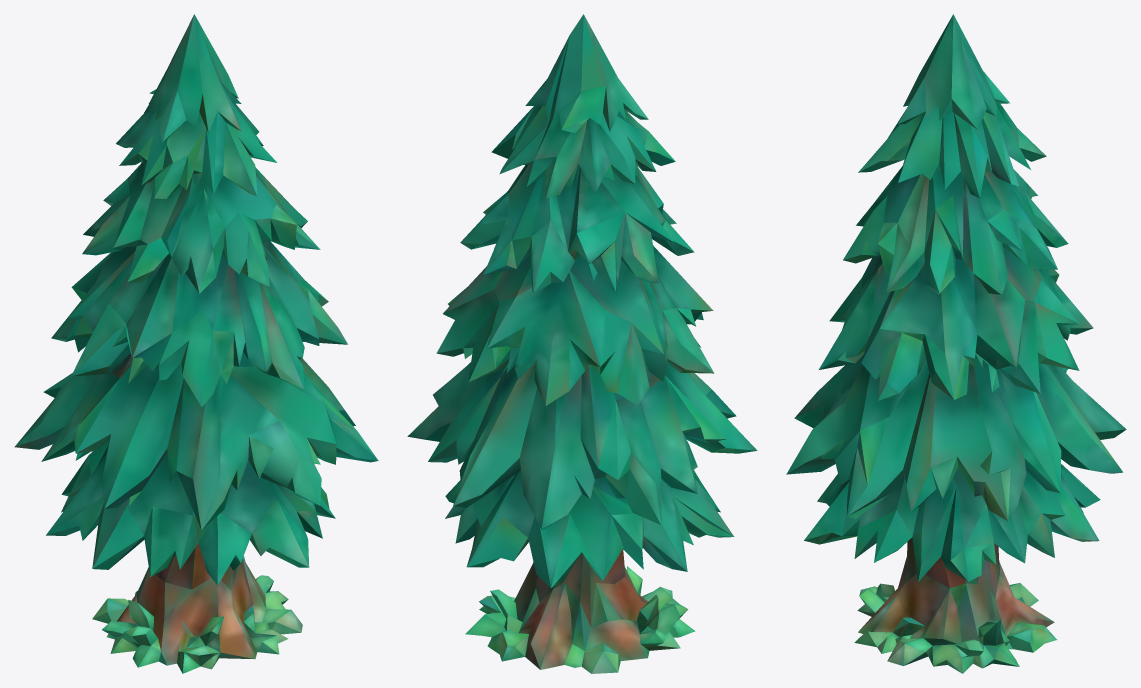
The model's file is pine-tree.glb.
The picture shows the model from 3 angles, left to right: view 1: azimuth 30°, elevation 25°; view 2: azimuth 150°, elevation 25°; view 3: azimuth 270°, elevation 25°; orthographic projection.
Parts seen in each view (by area): view 1: output_unwrapped; view 2: output_unwrapped; view 3: output_unwrapped.
Boxes of the visible parts, bbox=[...] form: output_unwrapped: bbox=[14, 14, 378, 673]; output_unwrapped: bbox=[407, 14, 757, 673]; output_unwrapped: bbox=[786, 14, 1126, 673].
Size of the model in its own units: 0.912 by 1.9 by 0.9585.
Materials: 1 (1 with a texture image).
